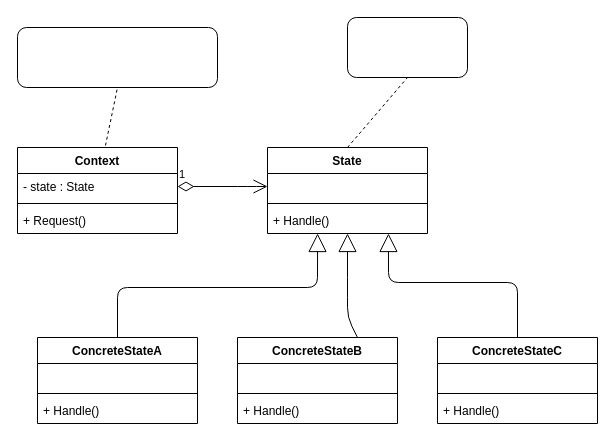
Image size: 615x444. Some labels were removed from this diagram. The shapes that lost their labels are listed below. From the top down, each one's centre as x and y in pixels, then its label:
At (117,57): "维护一个状态类的实例，实例表示当前context的状态".
At (407,47): "抽象状态类: 定义状态类的接口".
